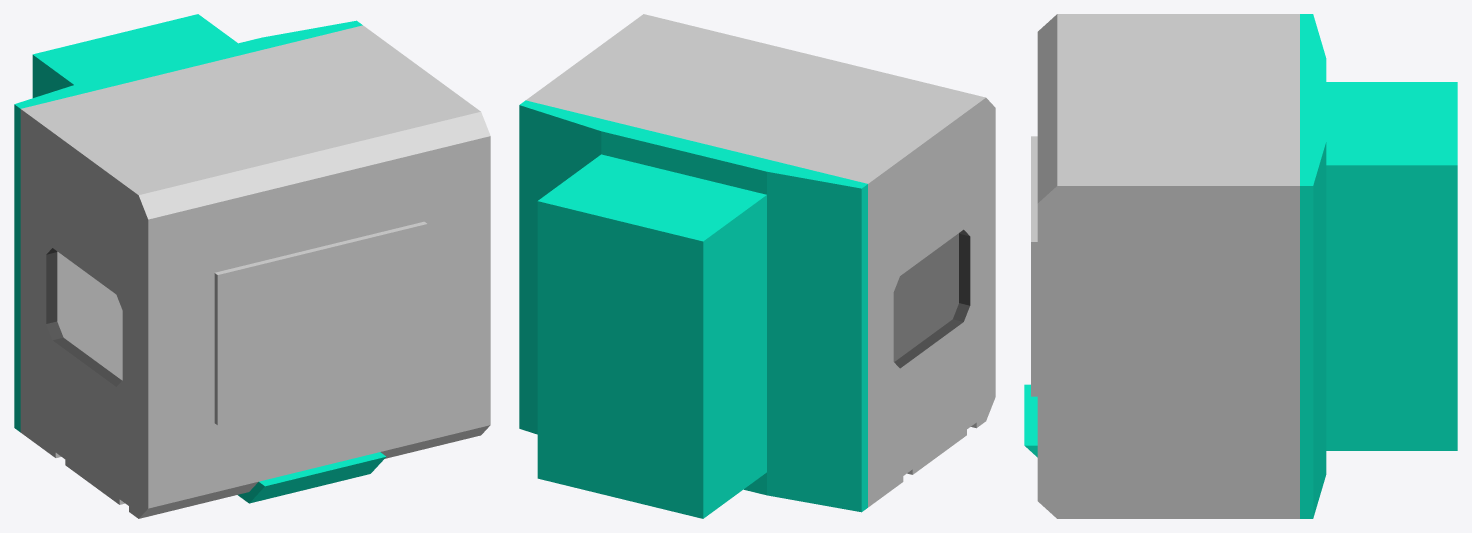
The model's file is cnc_vertical_machining_center_1_state_2.dae.
3 views of the same model, side by side, from view 1: azimuth 30°, elevation 25°; view 2: azimuth 150°, elevation 25°; view 3: azimuth 270°, elevation 25° (orthographic). The views are drawn at different scales.
Parts seen in each view (by area): view 1: coords_ME_ID3_MA_material_8, coords_ME_ID53_MA_material_8, coords_ME_ID27_MA_material_17, coords_ME_ID11_MA_material_17, coords_ME_ID33_MA_material; view 2: coords_ME_ID27_MA_material_17, coords_ME_ID3_MA_material_8, coords_ME_ID33_MA_material; view 3: coords_ME_ID3_MA_material_8, coords_ME_ID27_MA_material_17, coords_ME_ID53_MA_material_8, coords_ME_ID11_MA_material_17.
Part boxes in pixels (left/top/right/bottom): coords_ME_ID3_MA_material_8: left=20, top=25, right=490, bottom=518; coords_ME_ID53_MA_material_8: left=214, top=221, right=427, bottom=425; coords_ME_ID27_MA_material_17: left=14, top=14, right=362, bottom=432; coords_ME_ID11_MA_material_17: left=238, top=452, right=386, bottom=503; coords_ME_ID33_MA_material: left=46, top=248, right=121, bottom=386; coords_ME_ID27_MA_material_17: left=519, top=100, right=867, bottom=518; coords_ME_ID3_MA_material_8: left=526, top=14, right=995, bottom=507; coords_ME_ID33_MA_material: left=894, top=229, right=970, bottom=368; coords_ME_ID3_MA_material_8: left=1037, top=14, right=1299, bottom=518; coords_ME_ID27_MA_material_17: left=1300, top=14, right=1457, bottom=518; coords_ME_ID53_MA_material_8: left=1031, top=136, right=1037, bottom=396; coords_ME_ID11_MA_material_17: left=1024, top=384, right=1037, bottom=457.
Bounding box in the file's own units: 24.41 × 22.83 × 25.98.
